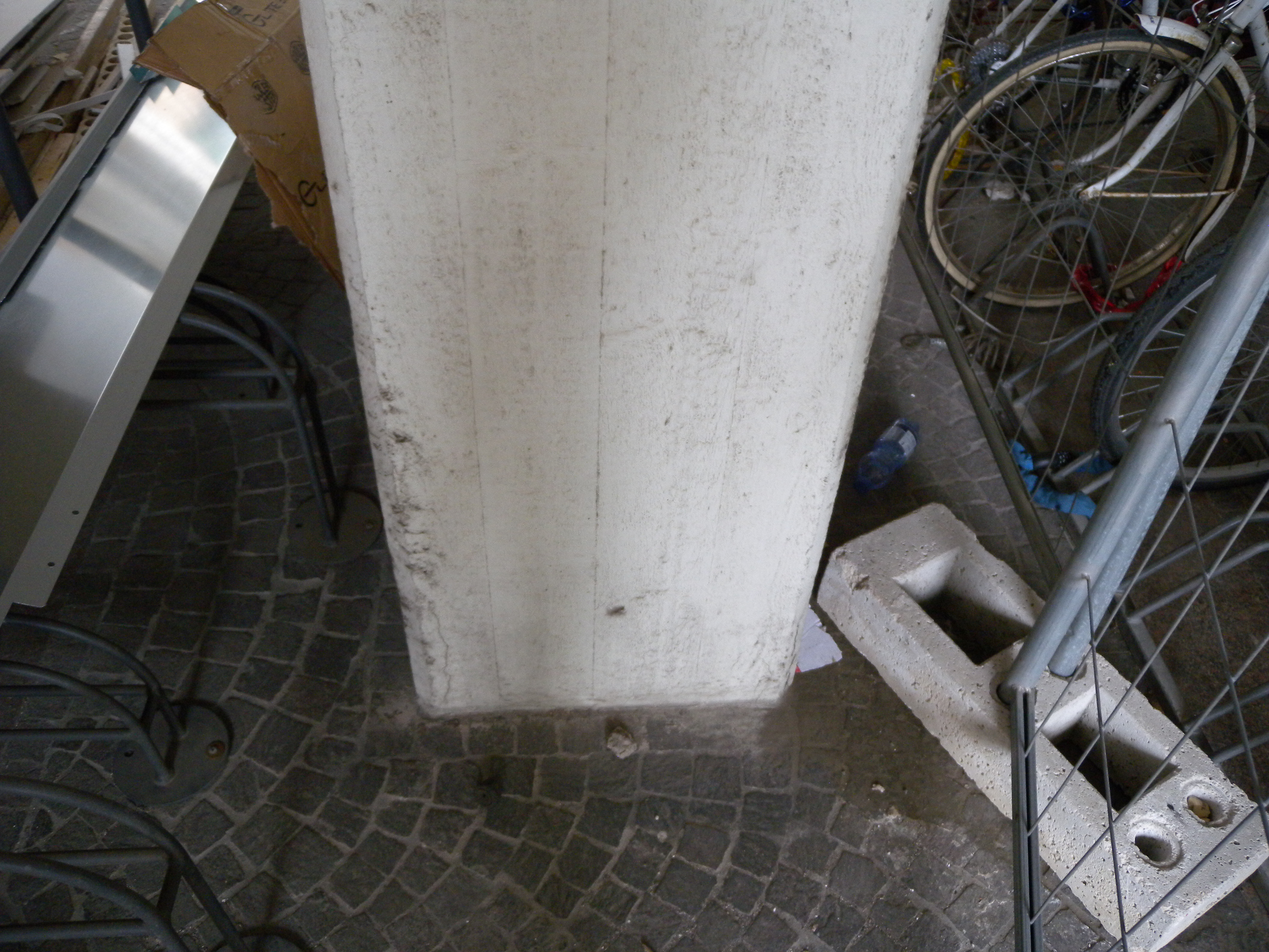Spalling: (354, 400, 464, 712)
